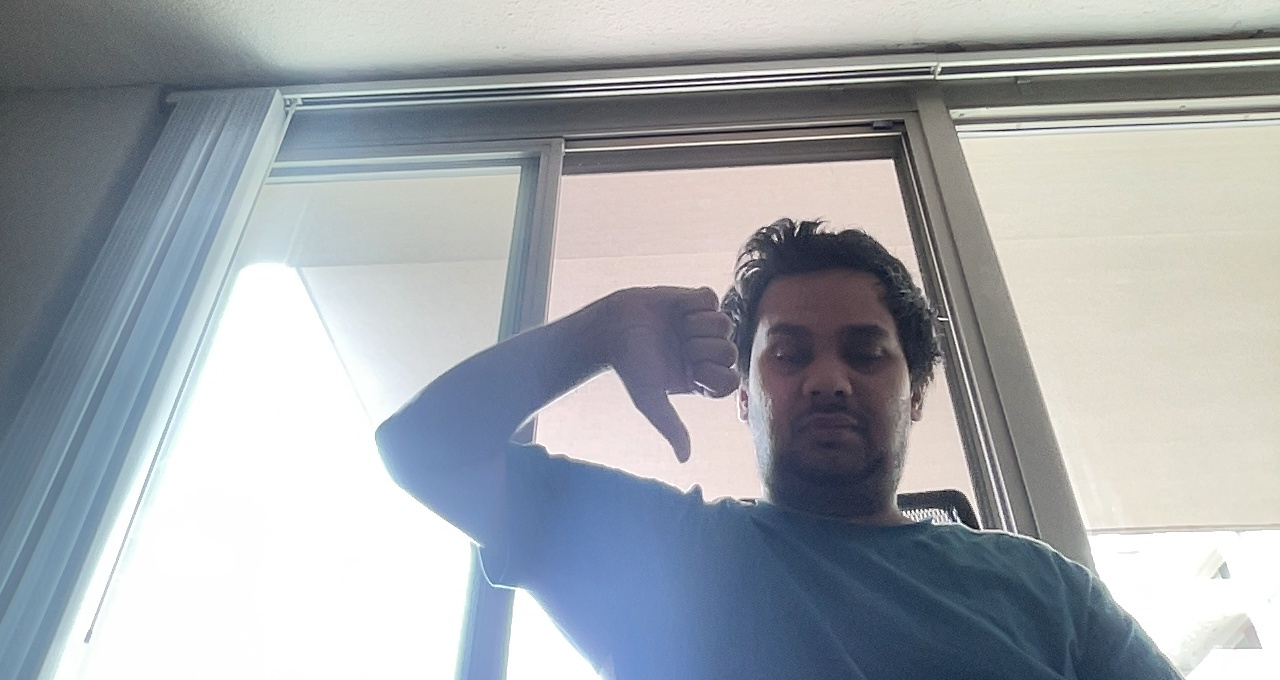thumbsdown: (602, 274, 746, 476)
